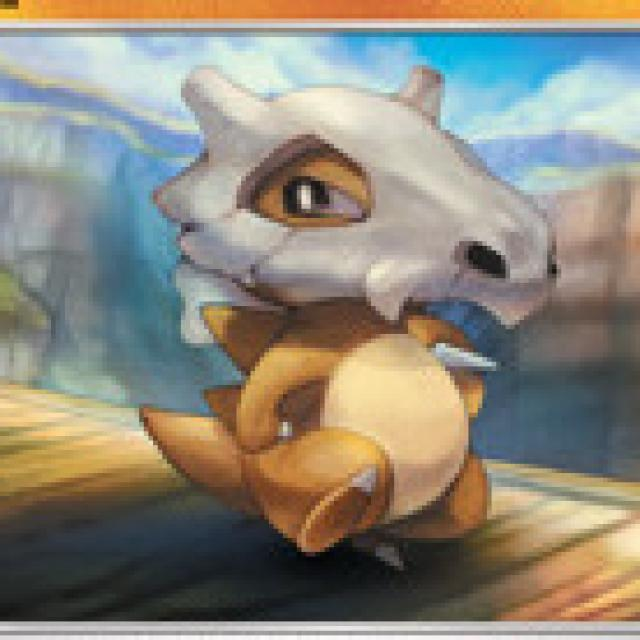Cubone: (126, 64, 556, 564)
